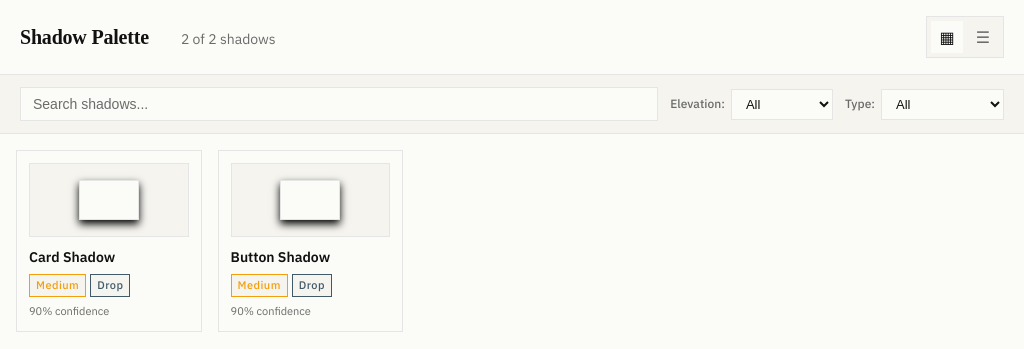
ShadowPalette › Search › should show clear button when search has value
Type "test" into the field with placeholder "Search shadows...". click: x=339, y=104
box: left=20, top=87, right=658, bottom=121
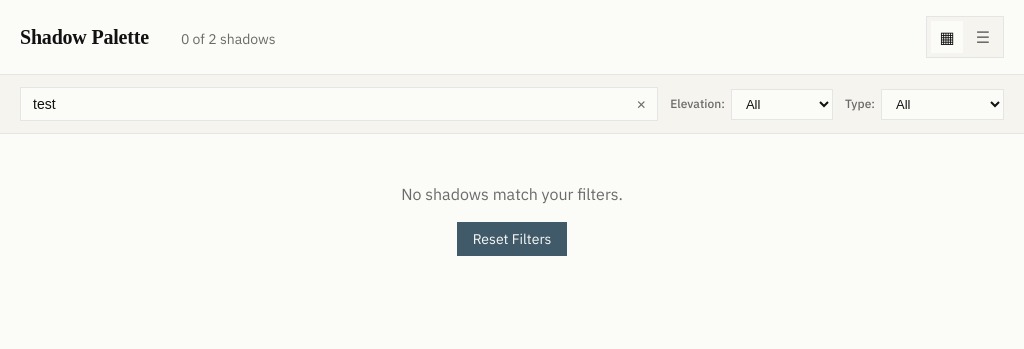
Check: the button with class "clear-search" is shown, box left=632, top=92, right=650, bottom=116
